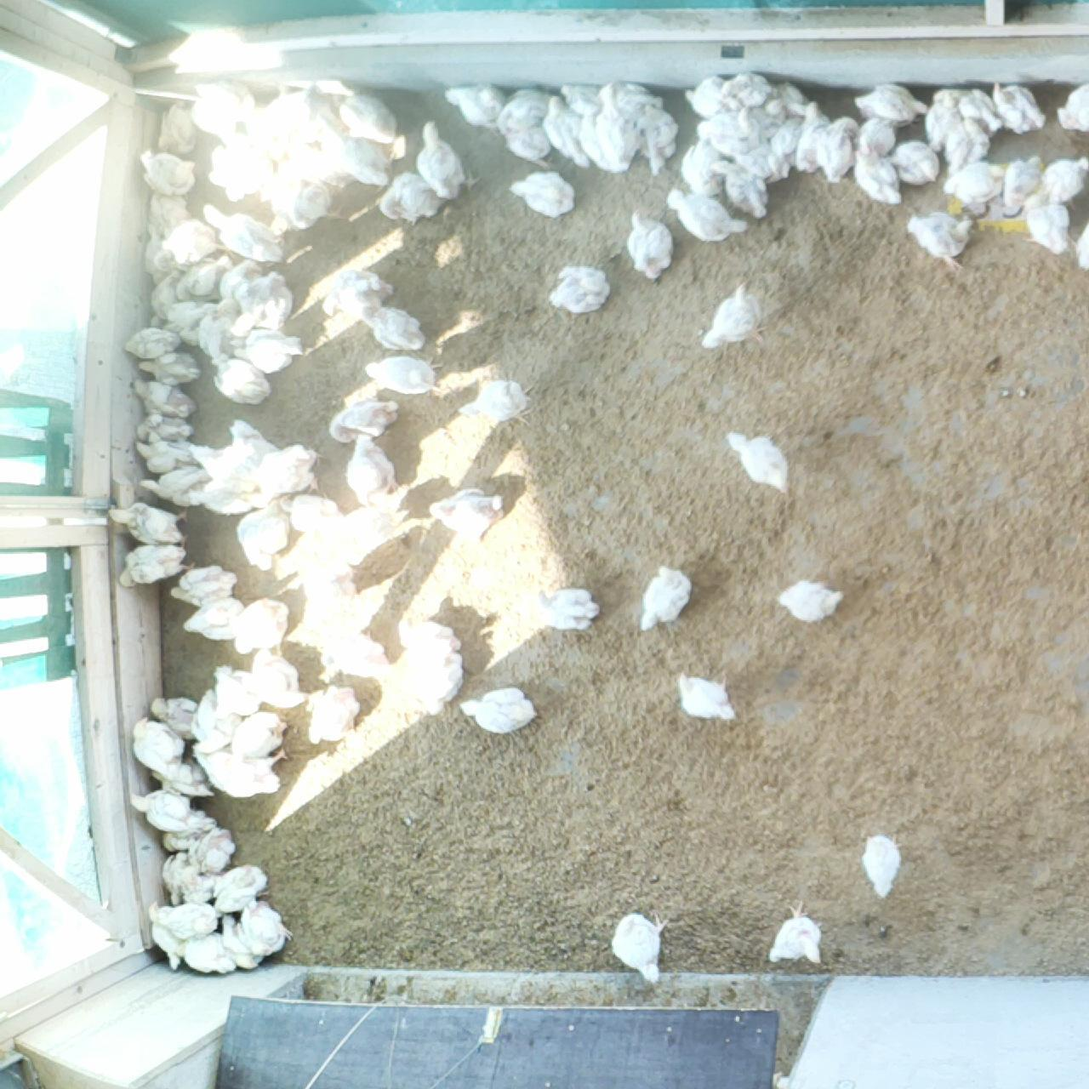chicken: (413, 115, 482, 203), (198, 200, 289, 265), (263, 163, 345, 235), (249, 437, 324, 511), (602, 907, 671, 986), (583, 79, 639, 174), (322, 121, 397, 190), (665, 185, 752, 244), (699, 277, 768, 351), (723, 425, 793, 497), (905, 205, 977, 275), (192, 745, 290, 796), (302, 678, 363, 757), (458, 681, 539, 740), (124, 786, 218, 836), (345, 432, 403, 512), (426, 485, 506, 542), (269, 76, 331, 148), (635, 563, 696, 636), (245, 647, 312, 713), (113, 539, 198, 591), (320, 262, 396, 320), (235, 499, 294, 573), (125, 714, 190, 781), (105, 499, 192, 549), (766, 897, 827, 968), (1018, 187, 1077, 260), (374, 168, 448, 225), (276, 134, 350, 191), (455, 377, 540, 426), (707, 155, 771, 220), (232, 898, 297, 962), (671, 663, 738, 725), (540, 94, 593, 172), (166, 559, 242, 613), (403, 649, 463, 717), (187, 684, 242, 758), (232, 593, 291, 661), (205, 136, 264, 204), (850, 77, 930, 127), (622, 206, 676, 280), (326, 395, 401, 448), (361, 354, 445, 401), (988, 77, 1050, 140), (770, 572, 845, 624), (207, 352, 272, 412), (936, 158, 1008, 212), (507, 167, 580, 220), (237, 268, 294, 334), (543, 262, 612, 316), (694, 102, 764, 155), (227, 707, 292, 764), (358, 302, 429, 354), (186, 440, 253, 495), (532, 583, 604, 634), (633, 97, 680, 175), (233, 327, 307, 376), (178, 593, 249, 644), (336, 92, 403, 146), (210, 861, 270, 921), (187, 78, 247, 137), (133, 145, 199, 198), (195, 297, 243, 368), (814, 114, 864, 182), (859, 828, 906, 900), (160, 802, 219, 859), (931, 83, 1004, 129), (143, 900, 220, 943), (137, 465, 213, 508), (171, 930, 242, 976), (851, 147, 905, 207), (394, 612, 465, 657), (128, 375, 199, 420), (211, 660, 265, 718), (792, 97, 831, 177), (680, 134, 728, 199), (440, 82, 509, 127), (159, 216, 220, 266), (945, 112, 993, 175), (183, 475, 258, 514), (225, 414, 279, 468), (188, 821, 241, 876), (146, 690, 202, 742), (133, 348, 202, 390), (1001, 149, 1047, 212), (889, 134, 943, 187), (218, 910, 264, 972), (1035, 150, 1089, 202), (279, 488, 344, 531), (151, 758, 216, 801), (497, 85, 554, 134), (117, 324, 183, 366), (922, 87, 964, 153), (216, 253, 259, 316), (131, 432, 195, 474), (155, 96, 199, 156), (174, 254, 227, 302), (147, 917, 188, 975), (610, 77, 667, 118), (504, 125, 559, 167), (131, 409, 196, 444), (720, 68, 774, 110), (139, 268, 179, 324), (683, 73, 731, 119), (757, 78, 813, 117), (768, 113, 806, 170), (854, 115, 899, 163), (1053, 75, 1089, 135), (158, 850, 195, 908), (138, 223, 173, 284), (158, 298, 214, 336), (142, 189, 190, 228), (753, 93, 788, 138), (557, 78, 601, 109), (178, 869, 217, 903)
